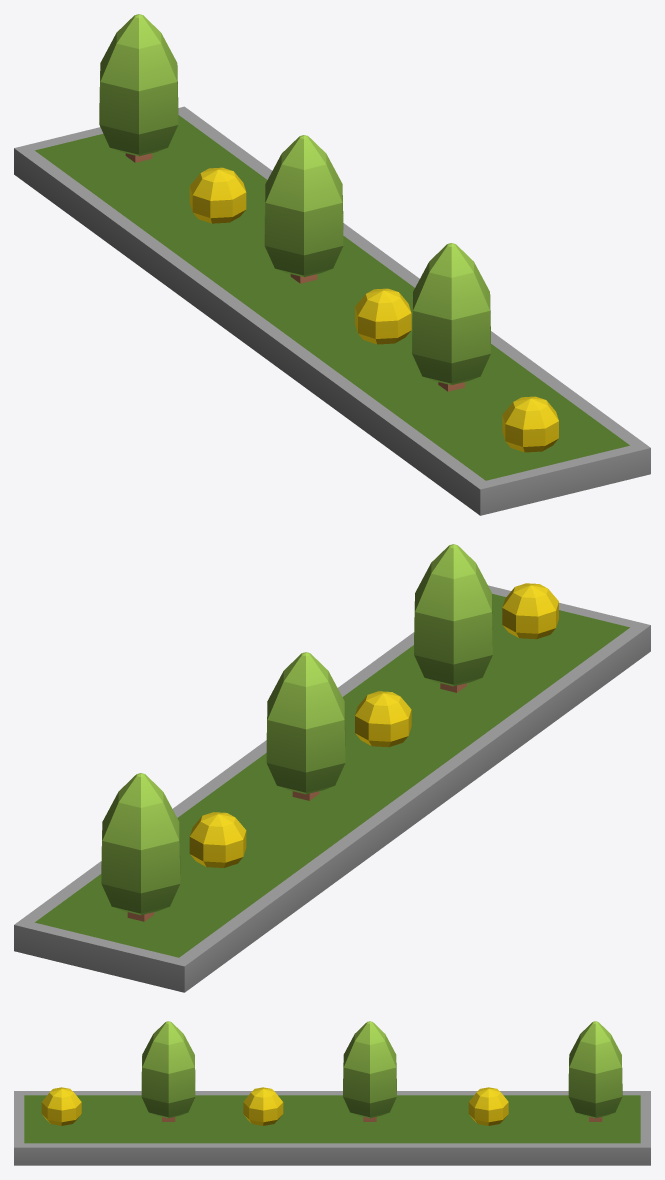
Rendered from lawn with bushes 2.fbx.
The picture shows the model from 3 angles, top to bottom: view 1: azimuth 30°, elevation 25°; view 2: azimuth 150°, elevation 25°; view 3: azimuth 270°, elevation 25°; orthographic projection. The views are drawn at different scales.
Parts seen in each view (by area): view 1: lawn_with_bushes_2; view 2: lawn_with_bushes_2; view 3: lawn_with_bushes_2.
Part boxes in pixels (box(x1,y1,x2,y2)): lawn_with_bushes_2: box(14, 14, 650, 515); lawn_with_bushes_2: box(14, 544, 650, 992); lawn_with_bushes_2: box(14, 1021, 650, 1165).
Bounding box in the file's own units: 200 × 189 × 947.
Materials: 1 (1 with a texture image).
